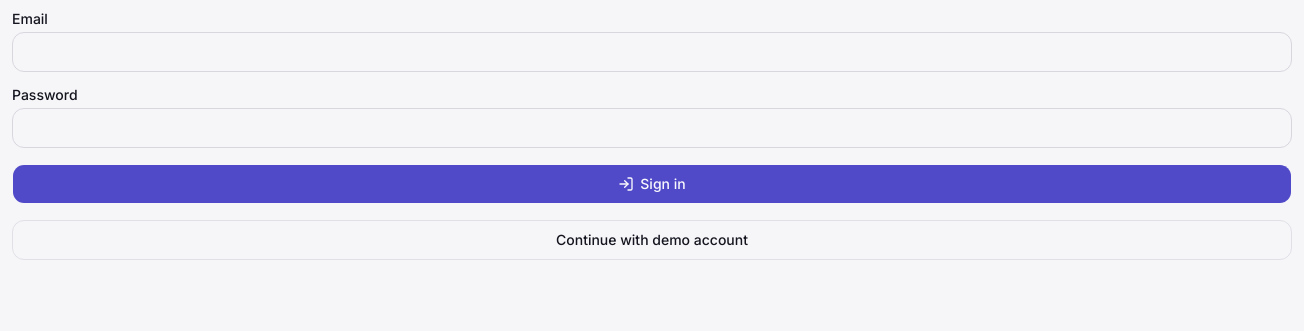
Scenario: SignInForm › rejects credentials that are not the demo account
This screenshot has width=1304, height=331.
Type "someone@example.com" into the field labelled "Email" at (652, 52), box [12,32,1292,72]
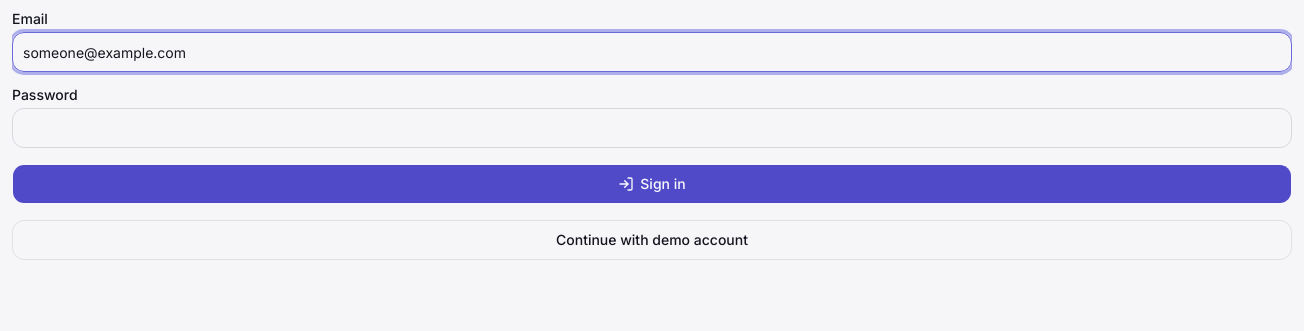
Type "password123" into the password field labelled "Password" at (652, 128), box [12,108,1292,148]
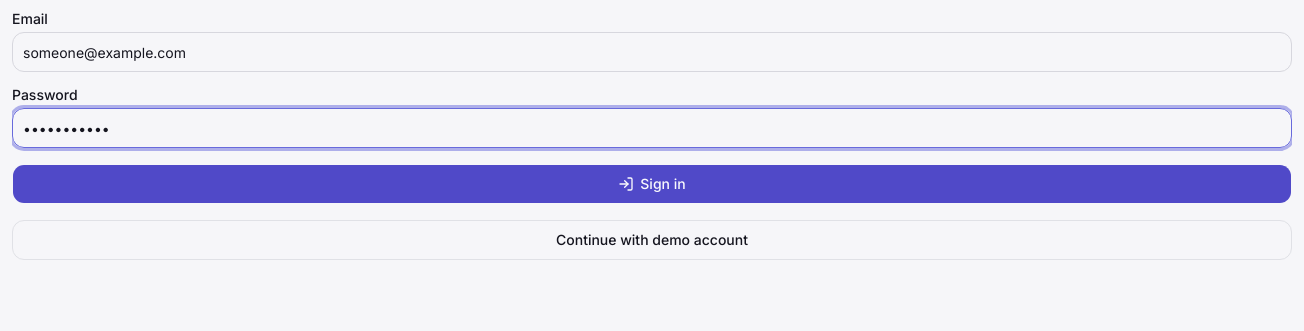
Click the button "Sign in" at (652, 184), box [12,164,1292,204]
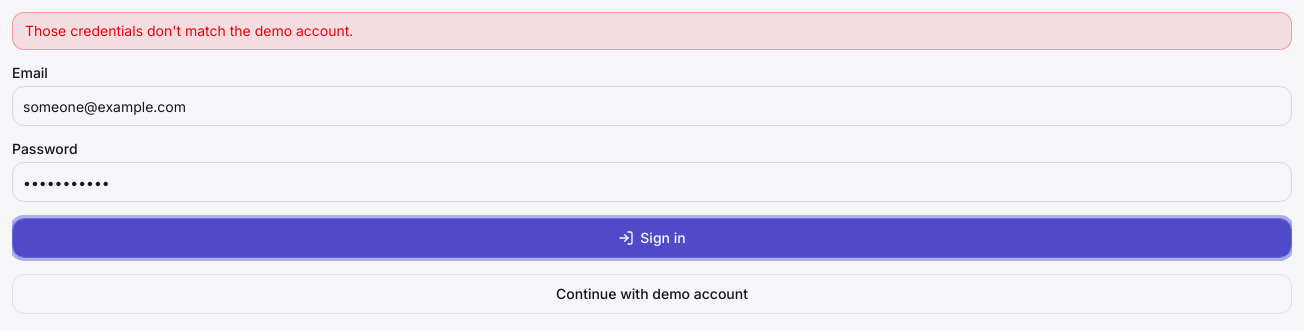
Expected: the text "Those credentials don't match the demo account." is shown, [12,12,1292,50]
